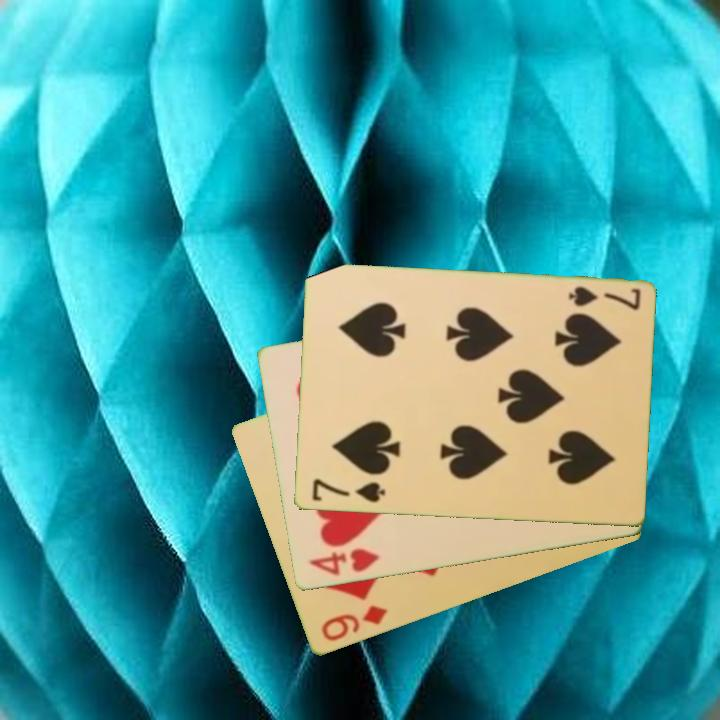4h: (306, 545, 383, 579)
7s: (308, 475, 388, 506), (565, 283, 643, 313)
9d: (317, 602, 391, 645)
